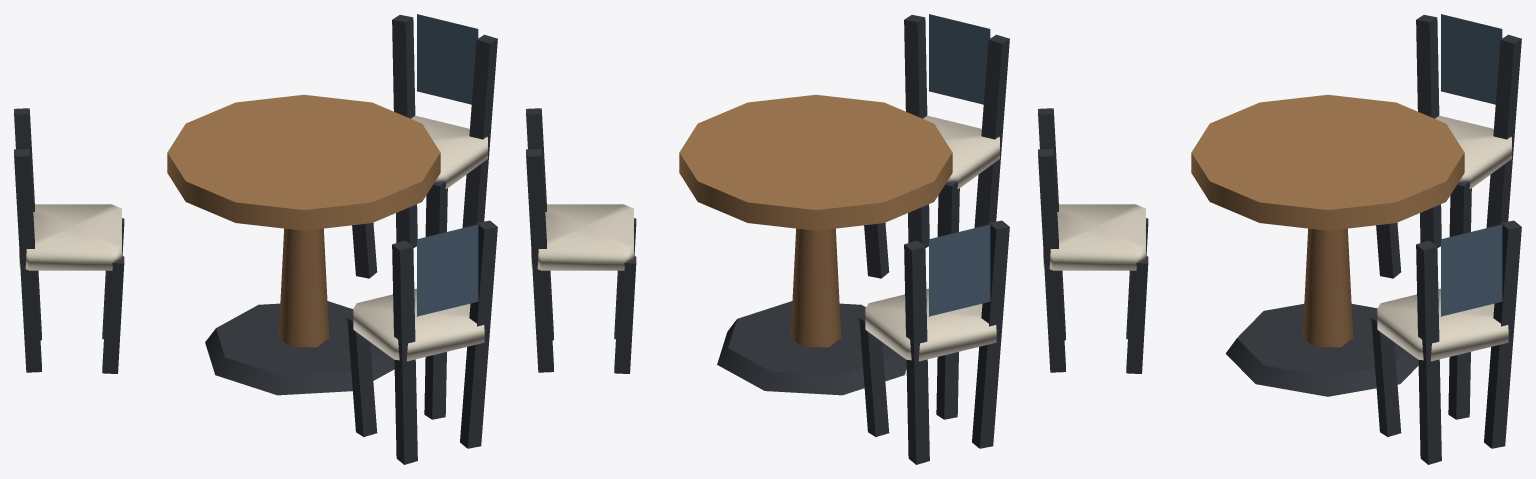
File: cafe-table-chairs.glb
3 views of the same model, side by side, from view 1: azimuth 30°, elevation 25°; view 2: azimuth 150°, elevation 25°; view 3: azimuth 270°, elevation 25° (orthographic).
Parts seen in each view (by area): view 1: Merged_city-metal-dark, Merged_city-timber-light, Merged_prop-body-light, Merged_cafe-chair-back, Merged_city-timber; view 2: Merged_city-metal-dark, Merged_city-timber-light, Merged_prop-body-light, Merged_cafe-chair-back, Merged_city-timber; view 3: Merged_city-metal-dark, Merged_city-timber-light, Merged_prop-body-light, Merged_cafe-chair-back, Merged_city-timber.
Boxes of the visible parts, x1,y1,x2,y2 form: Merged_city-metal-dark: (14, 15, 497, 464); Merged_city-timber-light: (167, 94, 440, 230); Merged_prop-body-light: (19, 115, 487, 361); Merged_cafe-chair-back: (417, 14, 478, 316); Merged_city-timber: (278, 228, 329, 347); Merged_city-metal-dark: (526, 15, 1009, 464); Merged_city-timber-light: (679, 94, 952, 230); Merged_prop-body-light: (531, 115, 999, 361); Merged_cafe-chair-back: (929, 14, 990, 316); Merged_city-timber: (790, 228, 841, 347); Merged_city-metal-dark: (1038, 15, 1521, 464); Merged_city-timber-light: (1191, 94, 1464, 230); Merged_prop-body-light: (1043, 115, 1511, 361); Merged_cafe-chair-back: (1441, 14, 1502, 316); Merged_city-timber: (1302, 228, 1353, 347).
Size of what is drawn, in the model's own units: 1.96 by 0.8822 by 1.7.
